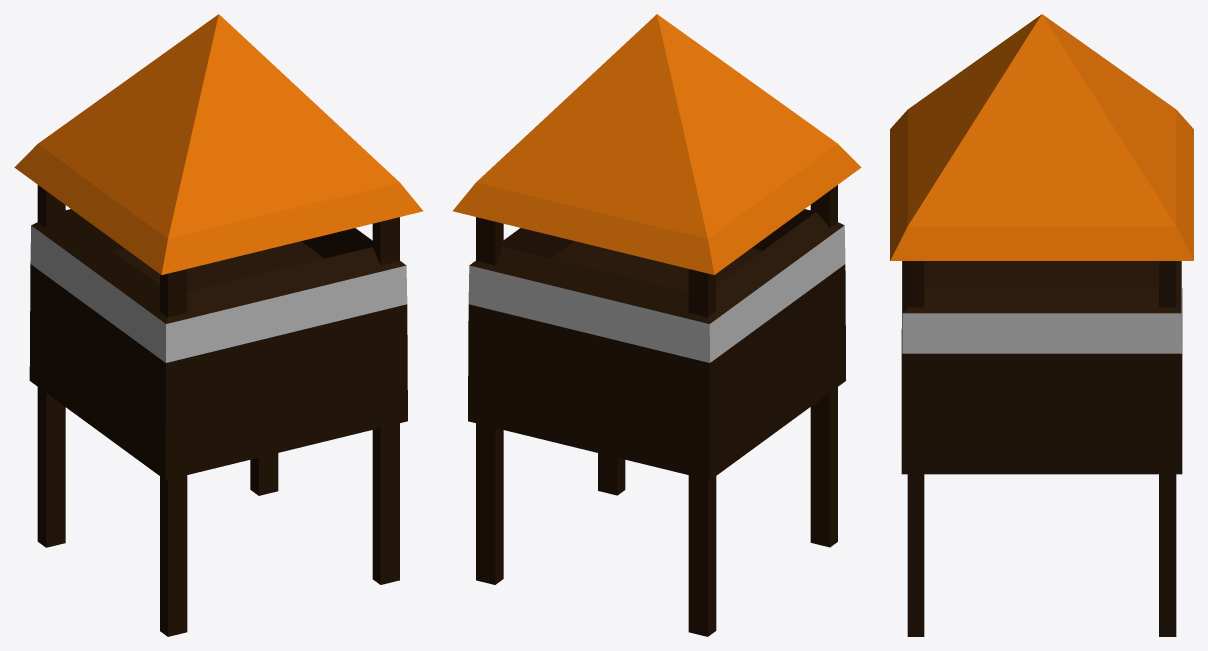
File: tower.obj
3 renders of one model, left to right at view 1: azimuth 30°, elevation 25°; view 2: azimuth 150°, elevation 25°; view 3: azimuth 270°, elevation 25°, orthographic. The views are drawn at different scales.
Parts seen in each view (by area): view 1: Cube.001; view 2: Cube.001; view 3: Cube.001.
Boxes of the visible parts, bbox=[...] form: Cube.001: bbox=[14, 14, 423, 636]; Cube.001: bbox=[452, 14, 861, 636]; Cube.001: bbox=[890, 14, 1193, 636].
Size of the model in its own units: 3.74 by 7.46 by 3.63.
